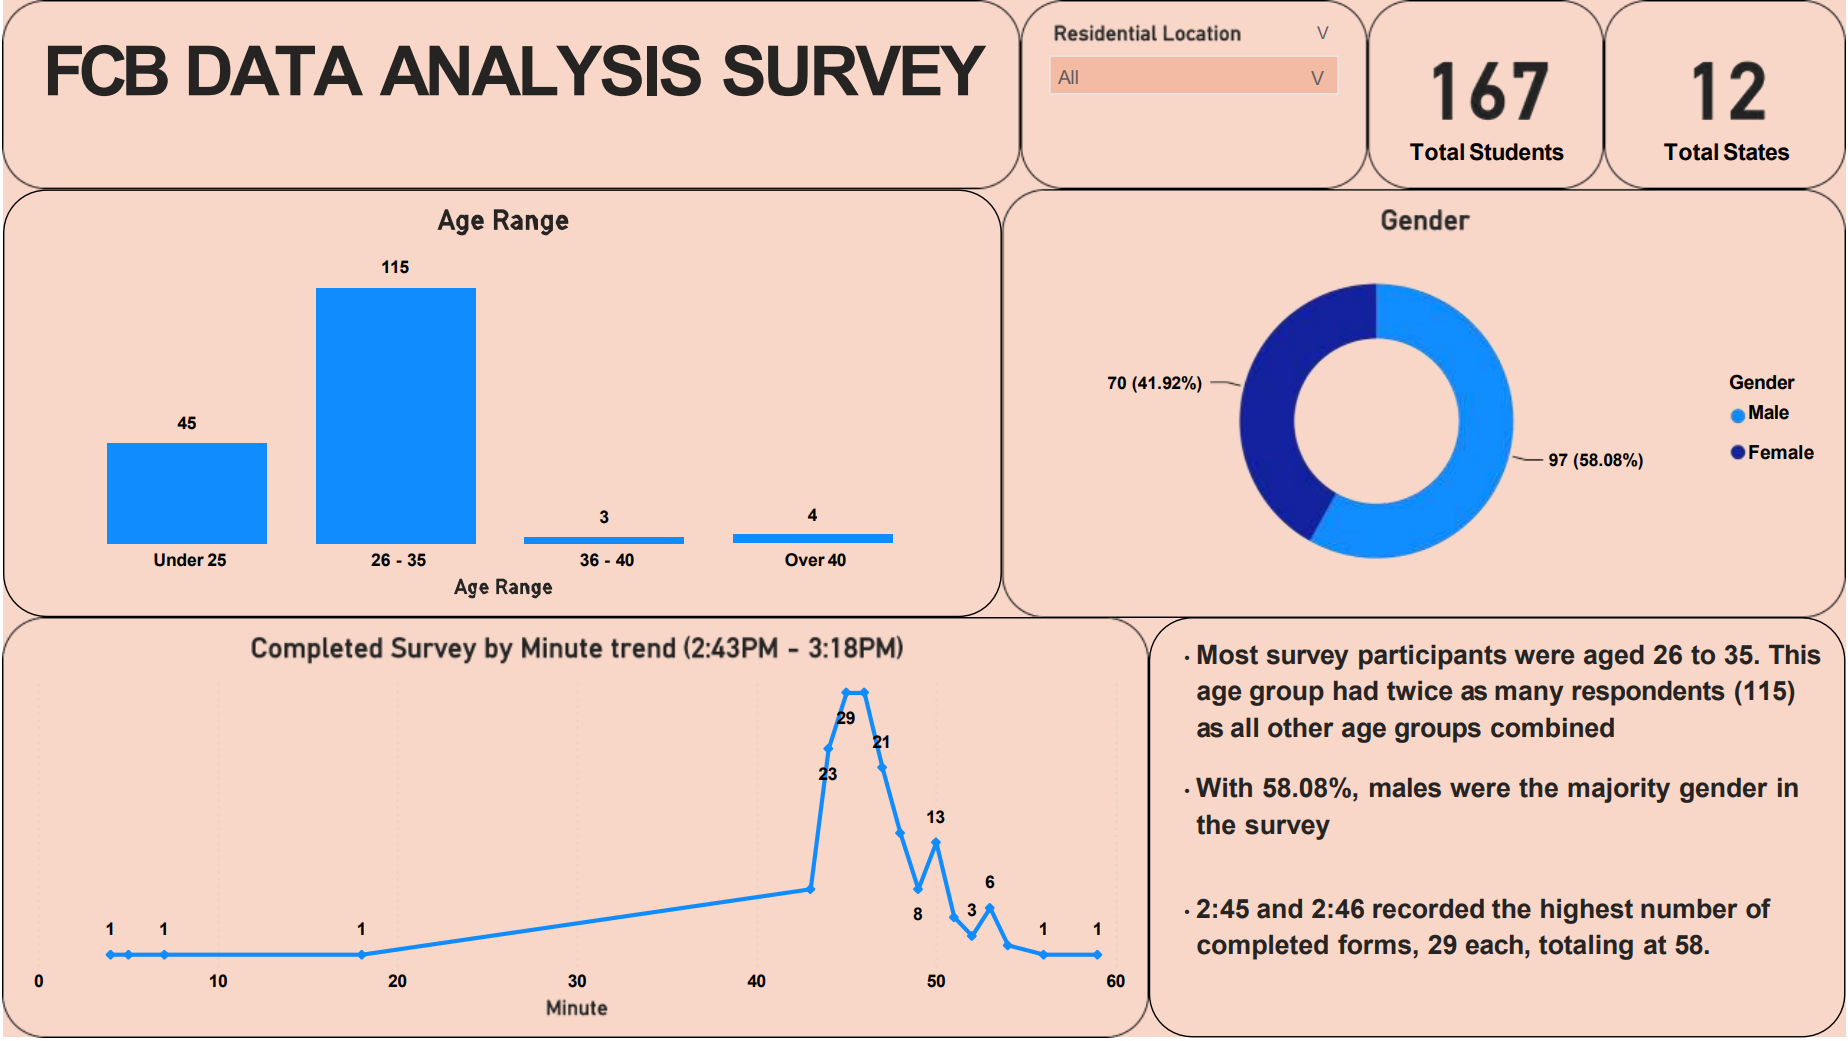

What the dashboard file says about the page in this screenshot:
{"tool":"powerbi","page":{"name":"Executive Overview","canvas":[1280,720],"ordinal":0},"visuals":[{"type":"textbox","box":[14.2,18.9,626.6,108.9],"z":0},{"type":"card","title":"Total Number of Students","fields":{"Values":["Count(Form Responses 1.Full Name (Surname & First Name))"]},"box":[640.8,20.5,328.3,107.3],"z":1000},{"type":"pieChart","title":"Gender","fields":{"Category":["Form Responses 1.Gender"],"Y":["CountNonNull(Form Responses 1.Gender)"]},"box":[14.2,127.8,435.6,323.6],"z":2000},{"type":"pieChart","title":"Marital Status","fields":{"Category":["Form Responses 1.Marital Status"],"Y":["CountNonNull(Form Responses 1.Marital Status)"]},"box":[774.9,127.8,473.5,325.1],"z":3000},{"type":"slicer","title":"Age Range","fields":{"Values":["Form Responses 1.Age Range"]},"box":[969,21,279,108],"z":4000},{"type":"clusteredColumnChart","title":"Age Range","fields":{"Category":["Form Responses 1.Age Range"],"Y":["Count(Form Responses 1.Name)"]},"box":[449.8,127.8,325.1,326.7],"z":5000},{"type":"donutChart","title":"Education Level","fields":{"Category":["Form Responses 1.Highest Level of Education"],"Y":["CountNonNull(Form Responses 1.Highest Level of Education)"]},"box":[640.8,451.4,609.2,224.1],"z":6000},{"type":"lineChart","title":"Completed survey by minute trend (2:43PM - 3:18PM)","fields":{"Y":["Count(Form Responses 1.Name)"],"Y2":["Count(Form Responses 1.Timestamp)"],"Category":["Form Responses 1.Minute"]},"box":[14.2,451.4,626.6,222.5],"z":6001}]}

Visuals, with their boxes in screenshot pixels (x1, y1, x2, y2), scaled from the page's 1280x720 canvas onto the 1848x1041 screenshot:
textbox: box=[21, 27, 925, 185]
"Total Number of Students" card: box=[925, 30, 1399, 185]
"Gender" pieChart: box=[21, 185, 649, 653]
"Marital Status" pieChart: box=[1119, 185, 1802, 655]
"Age Range" slicer: box=[1399, 30, 1802, 187]
"Age Range" clusteredColumnChart: box=[649, 185, 1119, 657]
"Education Level" donutChart: box=[925, 653, 1805, 977]
"Completed survey by minute trend (2:43PM - 3:18PM)" lineChart: box=[21, 653, 925, 974]
